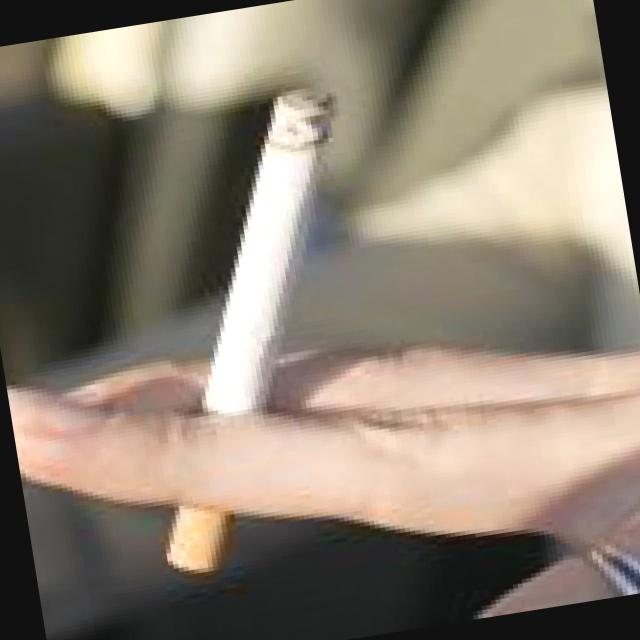smoke: (144, 68, 387, 420)
